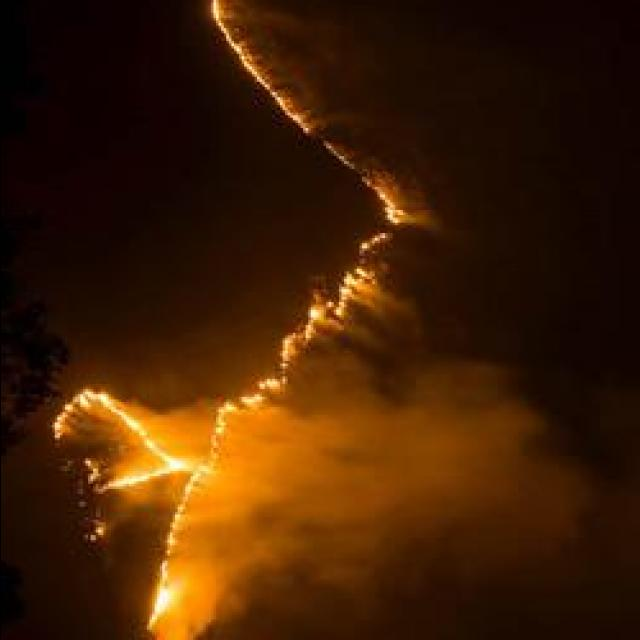fire: (368, 172, 432, 226), (148, 566, 190, 636), (199, 0, 236, 51), (74, 380, 112, 410), (164, 454, 194, 476), (185, 464, 208, 490), (119, 470, 152, 486), (121, 412, 145, 433)
smoke: (270, 358, 557, 574), (222, 472, 290, 592), (190, 538, 234, 622)
